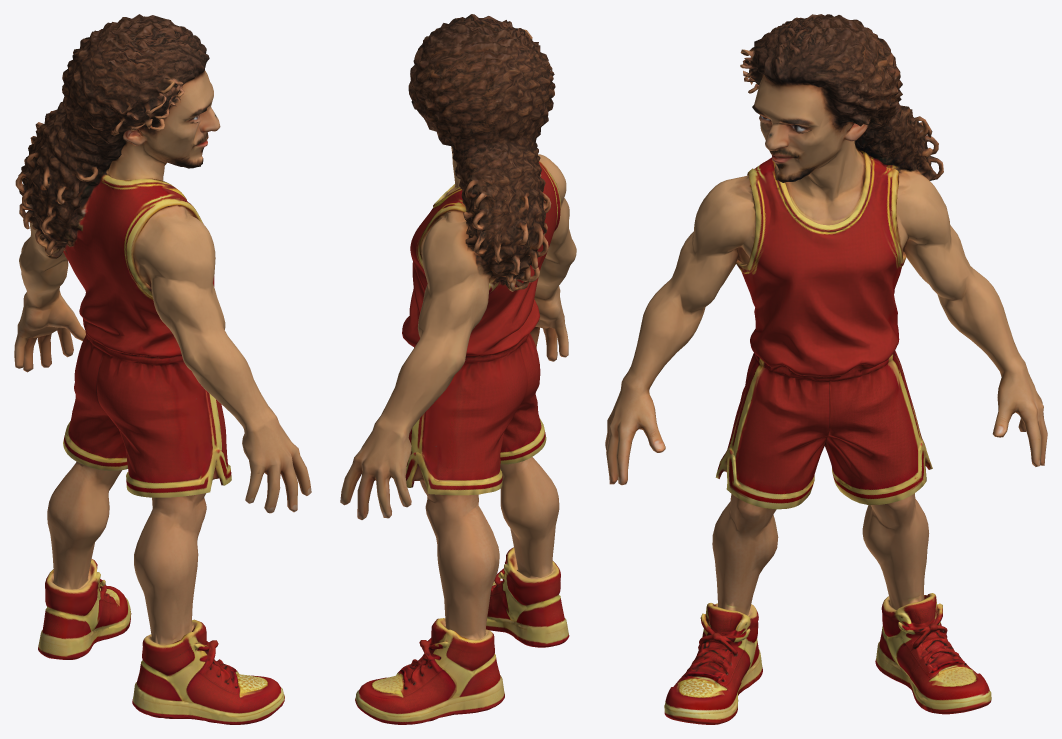
File: aboueb.glb
3 views of the same model, side by side, from view 1: azimuth 30°, elevation 25°; view 2: azimuth 150°, elevation 25°; view 3: azimuth 270°, elevation 25° (orthographic). The views are drawn at different scales.
Visible parts, largest first — view 1: tripo_node_6d760d86-48df-4e05-a18d-32bb53093c98; view 2: tripo_node_6d760d86-48df-4e05-a18d-32bb53093c98; view 3: tripo_node_6d760d86-48df-4e05-a18d-32bb53093c98.
Part boxes in pixels (x1,y1,x2,y2): tripo_node_6d760d86-48df-4e05-a18d-32bb53093c98: (14,14,311,724); tripo_node_6d760d86-48df-4e05-a18d-32bb53093c98: (340,14,576,724); tripo_node_6d760d86-48df-4e05-a18d-32bb53093c98: (605,14,1047,724).
Bounding box in the file's own units: 0.2719 × 0.9996 × 0.5968.
Materials: 1 (1 with a texture image).
